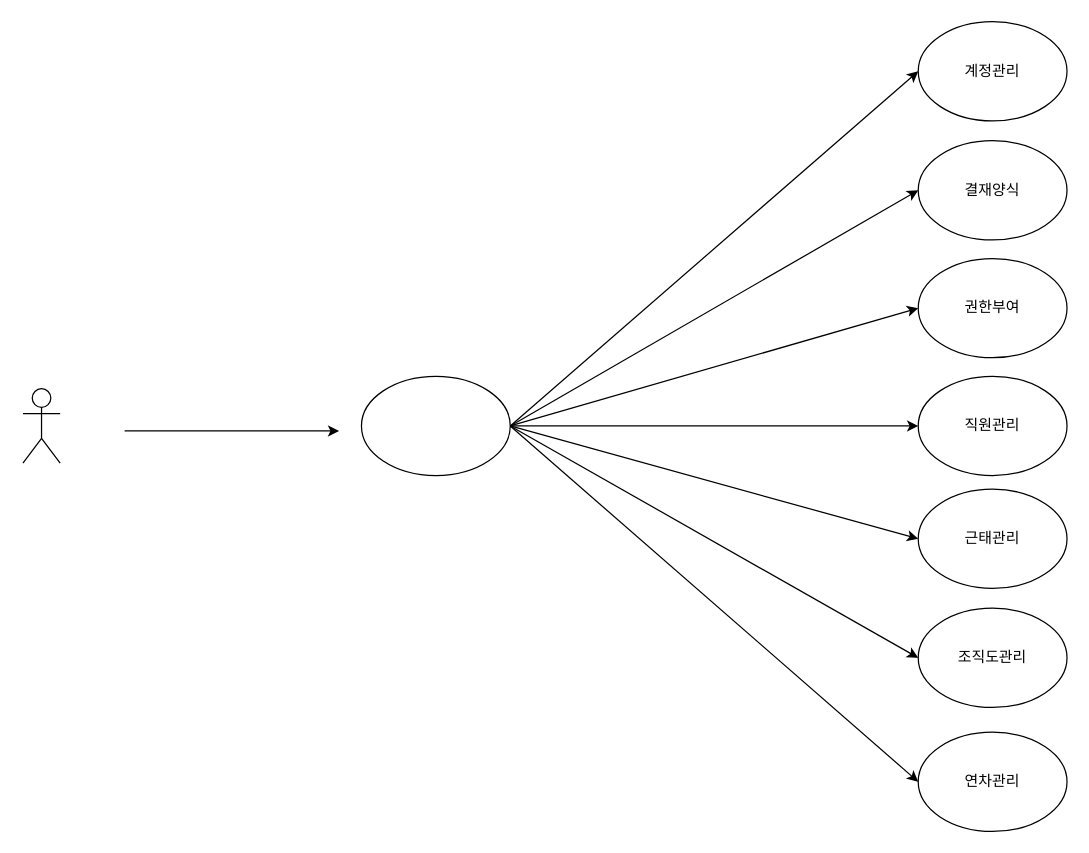
This 1089x853 diagram has some shape labels left out. Each missing label, with the centre of its shape:
"관리자" belongs at point 41,425.
"사이드바" belongs at point 435,425.
